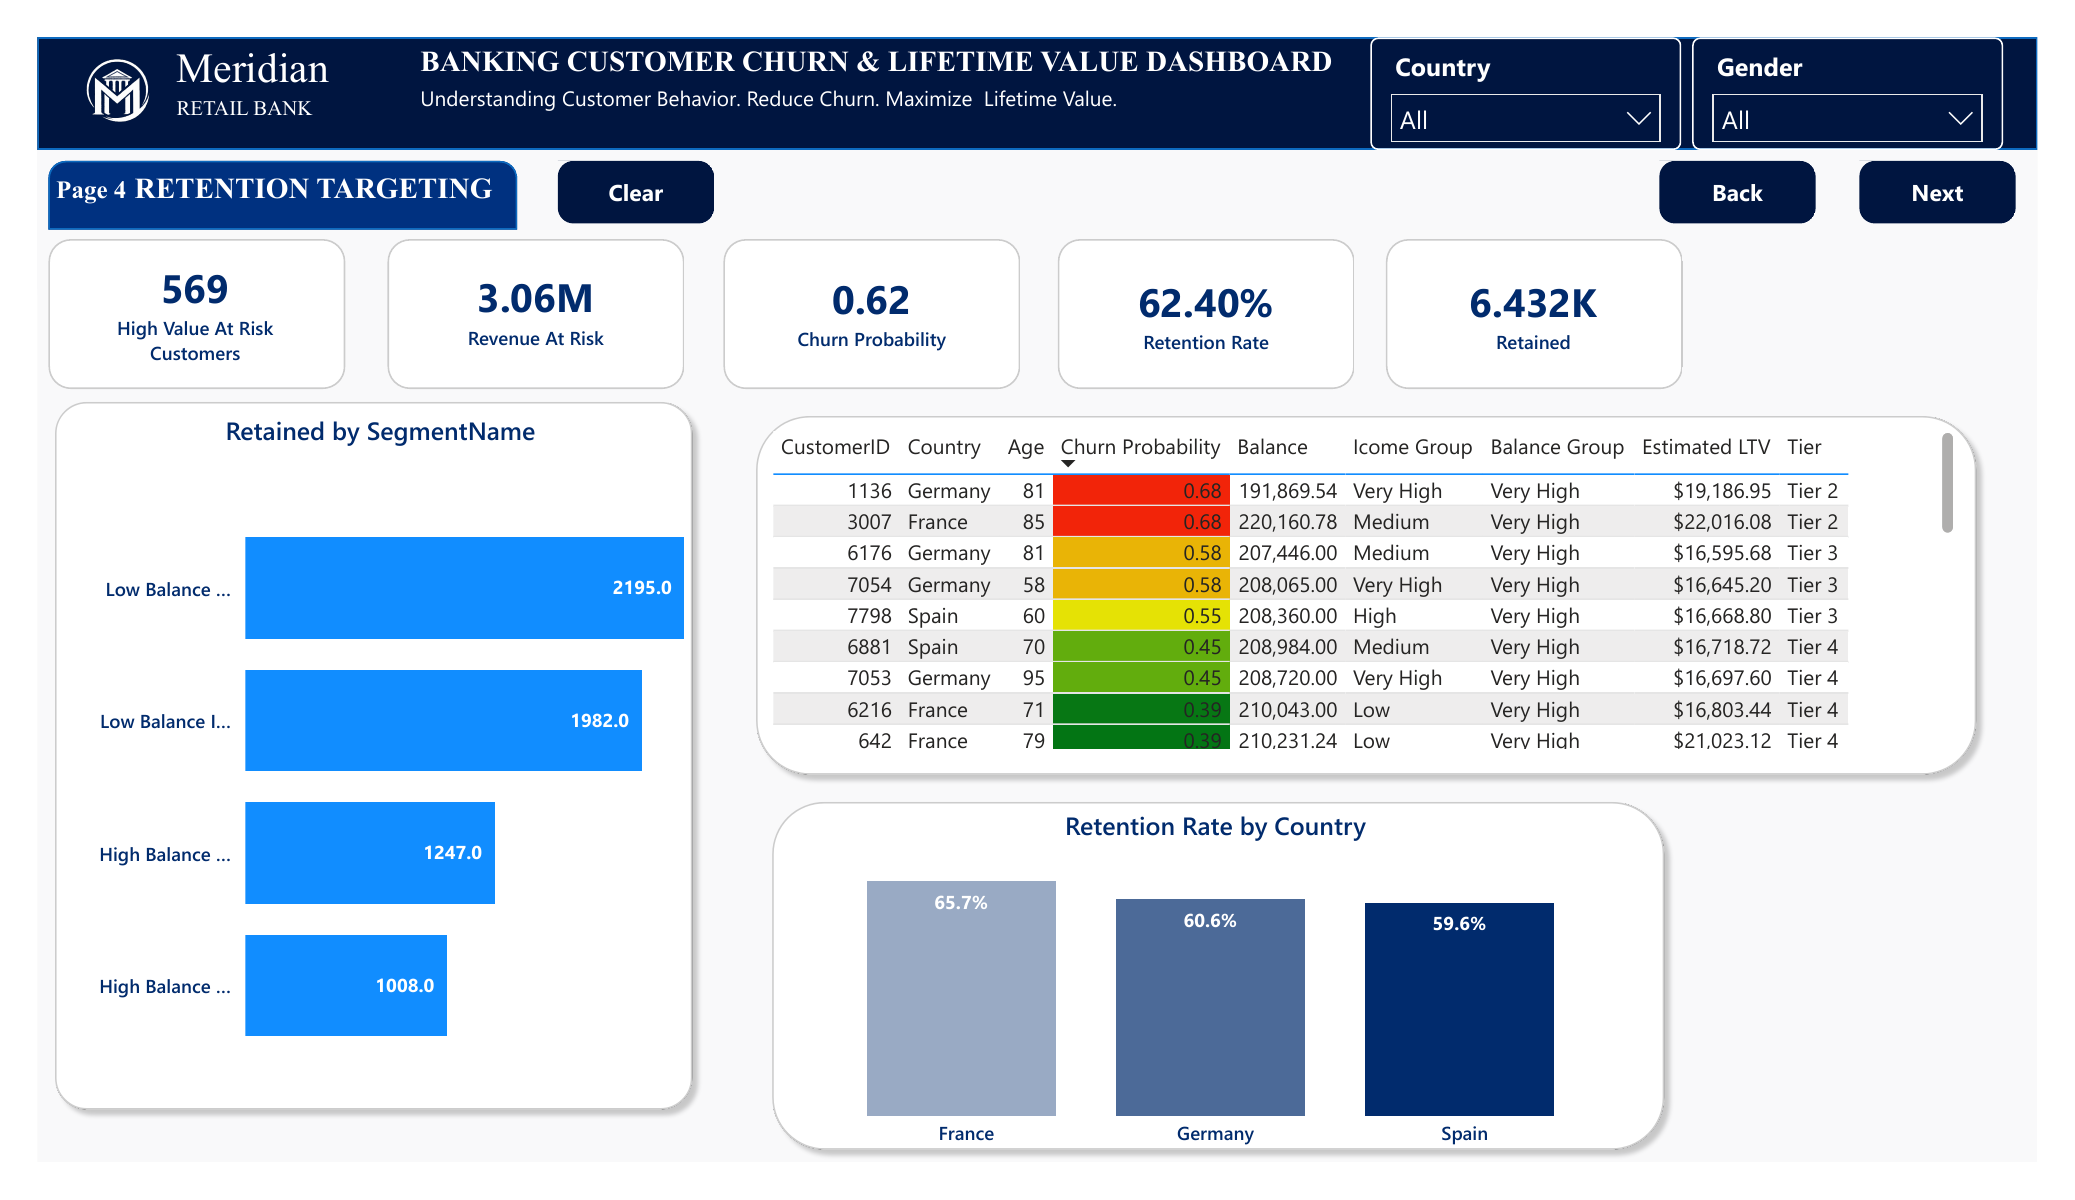

The dashboard page shown, as its layout file describes it:
{"tool":"powerbi","page":{"name":"Retention Targeting","canvas":[1280,720],"ordinal":3},"visuals":[{"type":"shape","box":[0,0,1279.7,720],"z":0},{"type":"shape","box":[3,225,424.5,469.3],"z":0,"group":"g3"},{"type":"shape","box":[452.2,233.7,797,246.3],"z":0,"group":"g4"},{"type":"shape","box":[462,481,586.6,239.1],"z":0,"group":"g5"},{"type":"shape","box":[0,0,1279.7,71.6],"z":1000},{"type":"clusteredBarChart","fields":{"Category":["DimSegment.SegmentName"],"Y":["All Dax.Retained"]},"box":[19.8,236,399.4,445.1],"z":1000,"group":"g6"},{"type":"columnChart","fields":{"Category":["DimGeography.Country"],"Y":["All Dax.Retention Rate"]},"box":[462,489.1,583.9,231],"z":1000,"group":"g5"},{"type":"shape","box":[7.2,78.8,300,43.9],"z":2000},{"type":"shape","box":[223.9,128.9,189.9,95.8],"z":2001,"group":"g2"},{"type":"shape","box":[7.2,129,189.9,95.8],"z":2001,"group":"g1"},{"type":"cardVisual","fields":{"Data":["All Dax.High Value At Risk Customers"]},"box":[7.9,125,186.3,103],"z":2012,"group":"g1"},{"type":"cardVisual","fields":{"Data":["All Dax.Revenue At Risk"]},"box":[226.7,126,184.5,95.8],"z":2012,"group":"g2"},{"type":"cardVisual","fields":{"Data":["All Dax.Churned"]},"box":[482.7,129,170.1,95.8],"z":3000},{"type":"cardVisual","fields":{"Data":["All Dax.Churned"]},"box":[482.7,129,170.1,95.8],"z":4000},{"type":"shape","box":[438.8,129,189.9,95.8],"z":5000},{"type":"shape","box":[652.8,129,189.9,95.8],"z":6000},{"type":"shape","box":[863.3,129,189.9,95.8],"z":7000},{"type":"group","id":"g1","title":"Group 1","box":[7.2,125,189.9,103],"z":8000},{"type":"group","id":"g2","title":"Group 1","box":[223.9,126,189.9,98.8],"z":9000},{"type":"cardVisual","fields":{"Data":["All Dax.Churn Probability"]},"box":[438.8,127.2,189.9,95.8],"z":10000},{"type":"cardVisual","fields":{"Data":["All Dax.Retention Rate"]},"box":[652.8,129,189.9,95.8],"z":11000},{"type":"cardVisual","fields":{"Data":["All Dax.Retained"]},"box":[863.3,129,189,95.8],"z":12000},{"type":"textbox","box":[7.2,78.8,300,43.9],"z":13000},{"type":"textbox","box":[240,0,613.4,35.8],"z":16000},{"type":"textbox","box":[240,25.1,615.2,35.8],"z":17000},{"type":"image","box":[0,0,102.1,71.6],"z":18000},{"type":"textbox","box":[84.2,0,130.7,71.6],"z":19000},{"type":"actionButton","box":[1166,78.8,100,40],"z":20000},{"type":"actionButton","box":[333.1,78.8,100,40],"z":21000},{"type":"group","id":"g3","title":"Group 2","box":[3,225,424.5,469.3],"z":22000},{"type":"group","id":"g4","title":"Group 2","box":[452.2,233.7,797,246.3],"z":23000},{"type":"actionButton","box":[1037.9,78.8,100,40],"z":24000},{"type":"group","id":"g5","title":"Group 2","box":[462,481,586.6,239.1],"z":25000},{"type":"group","id":"g6","title":"Group 2","box":[19.8,236,399.4,445.1],"z":26000},{"type":"tableEx","fields":{"Values":["FactCustomer.CustomerID","DimGeography.Country","FactCustomer.Age","All Dax.Churn Probability","FactCustomer.Balance","FactCustomer.Icome Group","FactCustomer.Balance Group","All Dax.Estimated LTV","All Dax.Tier"]},"box":[464.9,247.1,767.4,213],"z":27000},{"type":"slicer","fields":{"Values":["DimGender.Gender"]},"box":[1058.9,0,199,71.7],"z":27001},{"type":"slicer","fields":{"Values":["DimGeography.Country"]},"box":[853.4,0,198.8,71.6],"z":27002}]}

Visuals, with their boxes on the page's 1280x720 design canvas (x1, y1, x2, y2). These are canvas units, not pixel positions in the 2075x1200 screenshot, which may show the page scaled, cropped or inside an application window:
shape: box=[0, 0, 1280, 720]
shape: box=[3, 225, 428, 694]
shape: box=[452, 234, 1249, 480]
shape: box=[462, 481, 1049, 720]
shape: box=[0, 0, 1280, 72]
clusteredBarChart - DimSegment.SegmentName x All Dax.Retained: box=[20, 236, 419, 681]
columnChart - DimGeography.Country x All Dax.Retention Rate: box=[462, 489, 1046, 720]
shape: box=[7, 79, 307, 123]
shape: box=[224, 129, 414, 225]
shape: box=[7, 129, 197, 225]
cardVisual - All Dax.High Value At Risk Customers: box=[8, 125, 194, 228]
cardVisual - All Dax.Revenue At Risk: box=[227, 126, 411, 222]
cardVisual - All Dax.Churned: box=[483, 129, 653, 225]
cardVisual - All Dax.Churned: box=[483, 129, 653, 225]
shape: box=[439, 129, 629, 225]
shape: box=[653, 129, 843, 225]
shape: box=[863, 129, 1053, 225]
"Group 1" group: box=[7, 125, 197, 228]
"Group 1" group: box=[224, 126, 414, 225]
cardVisual - All Dax.Churn Probability: box=[439, 127, 629, 223]
cardVisual - All Dax.Retention Rate: box=[653, 129, 843, 225]
cardVisual - All Dax.Retained: box=[863, 129, 1052, 225]
textbox: box=[7, 79, 307, 123]
textbox: box=[240, 0, 853, 36]
textbox: box=[240, 25, 855, 61]
image: box=[0, 0, 102, 72]
textbox: box=[84, 0, 215, 72]
actionButton: box=[1166, 79, 1266, 119]
actionButton: box=[333, 79, 433, 119]
"Group 2" group: box=[3, 225, 428, 694]
"Group 2" group: box=[452, 234, 1249, 480]
actionButton: box=[1038, 79, 1138, 119]
"Group 2" group: box=[462, 481, 1049, 720]
"Group 2" group: box=[20, 236, 419, 681]
tableEx - FactCustomer.CustomerID x DimGeography.Country: box=[465, 247, 1232, 460]
slicer - DimGender.Gender: box=[1059, 0, 1258, 72]
slicer - DimGeography.Country: box=[853, 0, 1052, 72]
